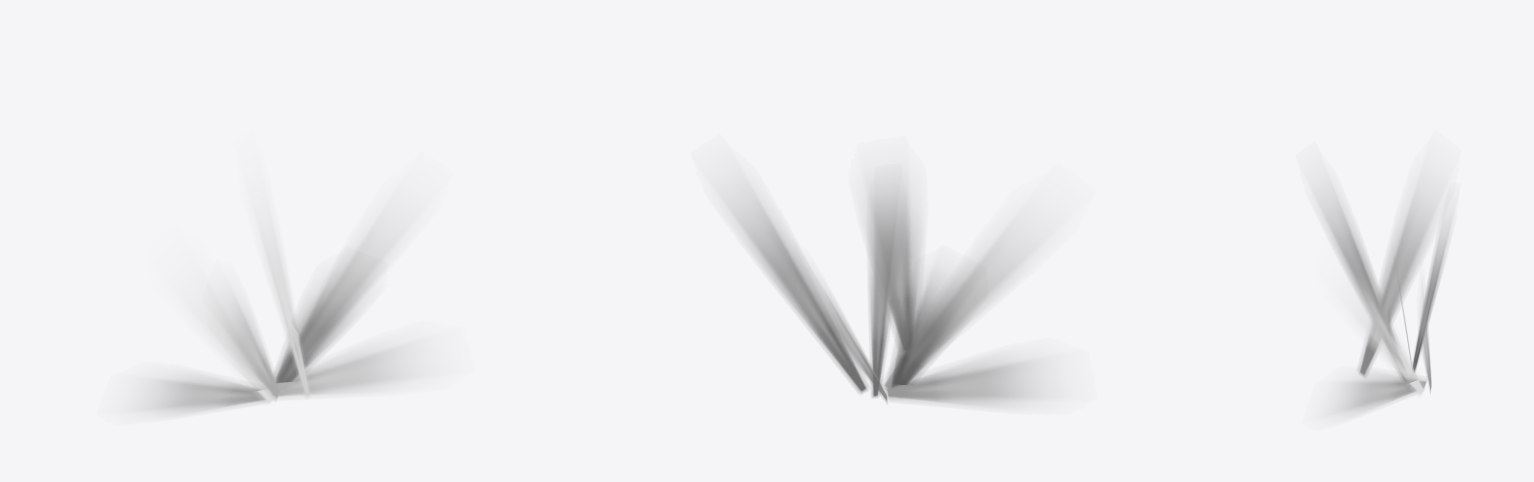
The model's file is GodRaysReversed.glb.
3 renders of one model, left to right at view 1: azimuth 30°, elevation 25°; view 2: azimuth 150°, elevation 25°; view 3: azimuth 270°, elevation 25°, orthographic. The views are drawn at different scales.
Visible parts, largest first — view 1: 2990057.003, 2990057.001, 2990057.005, 2990057.006, 2990057.002, 2990057.007, 2990057.004; view 2: 2990057.004, 2990057.003, 2990057.007, 2990057.006, 2990057.005, 2990057.002, 2990057.001; view 3: 2990057.007, 2990057.002, 2990057.004, 2990057.001, 2990057.005, 2990057.003.
Part boxes in pixels (x1,y1,x2,y2): 2990057.003: (274,194,419,379); 2990057.001: (273,339,434,399); 2990057.005: (168,256,274,405); 2990057.006: (129,372,272,416); 2990057.002: (275,274,366,383); 2990057.007: (249,180,310,398); 2990057.004: (216,284,280,401); 2990057.004: (882,205,1055,388); 2990057.003: (723,182,868,393); 2990057.007: (864,176,921,350); 2990057.006: (885,354,1057,408); 2990057.005: (887,273,968,387); 2990057.002: (869,230,893,397); 2990057.001: (812,271,887,403); 2990057.007: (1358,175,1441,377); 2990057.002: (1334,264,1424,397); 2990057.004: (1317,187,1405,380); 2990057.001: (1325,371,1426,418); 2990057.005: (1412,221,1450,372); 2990057.003: (1419,286,1431,393).
Size of the model in its own units: 35.49 by 26.15 by 16.67.
7 materials, 7 textured.
